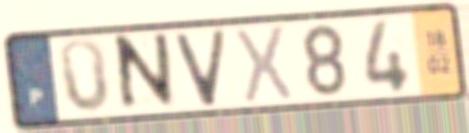0: (57, 37, 113, 117)
4: (361, 17, 414, 95)
8: (299, 22, 350, 100)
N: (115, 29, 178, 117)
V: (171, 26, 230, 109)
X: (232, 22, 295, 106)
